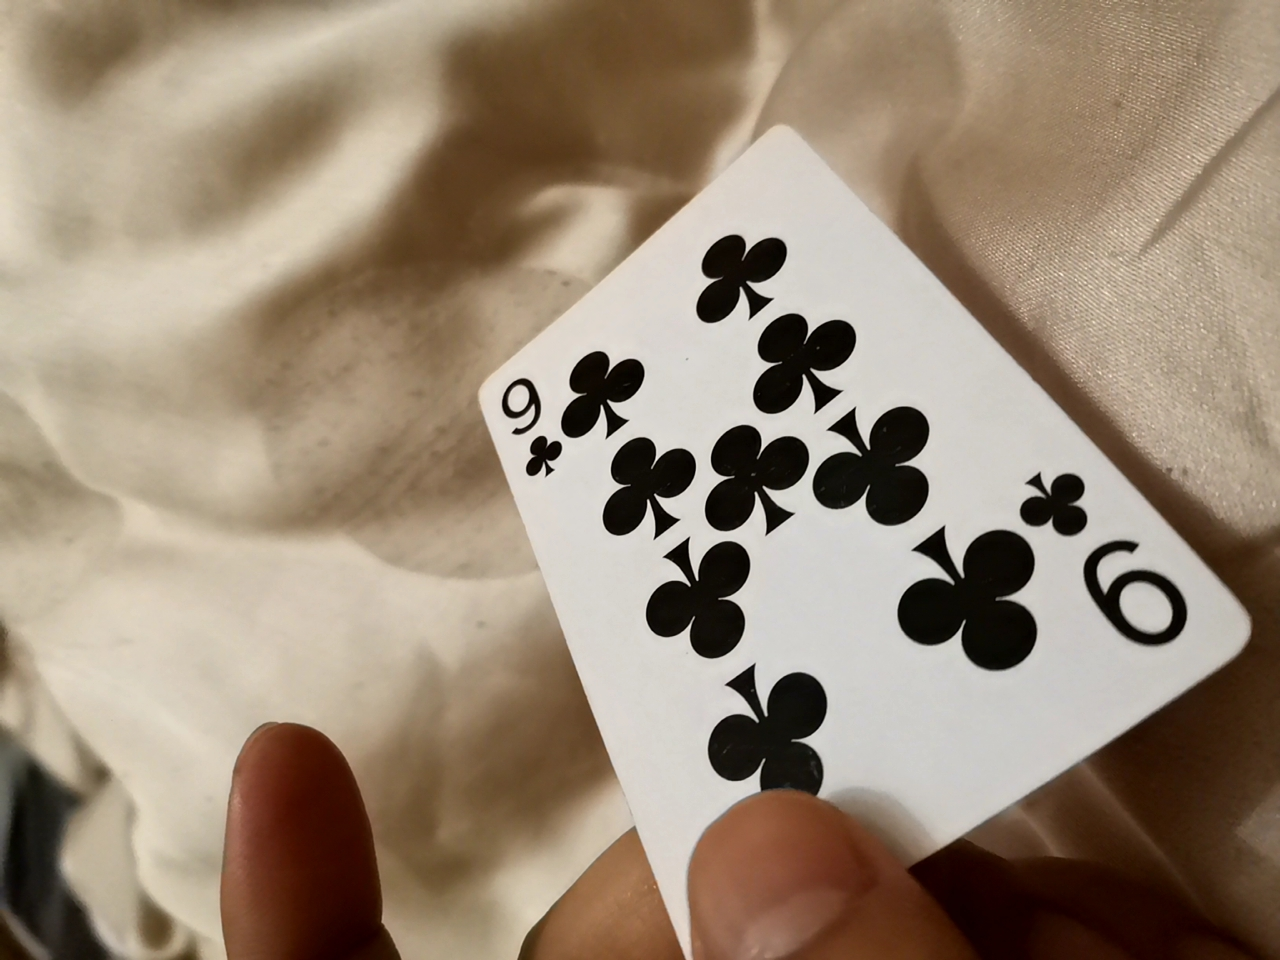mh 9: (426, 110, 1222, 910)
